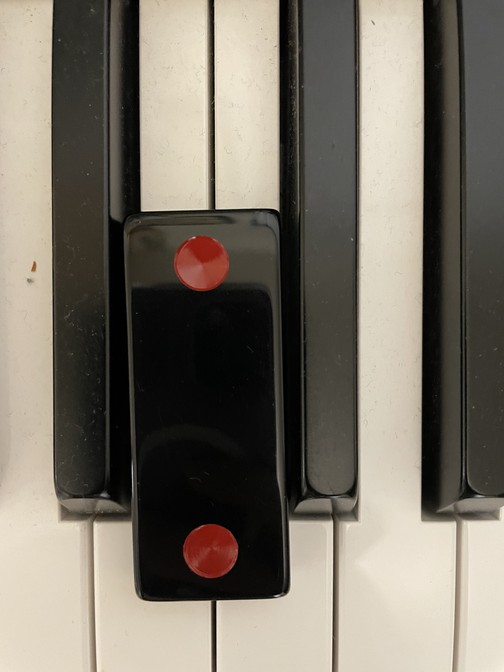earth: (121, 211, 294, 603)
